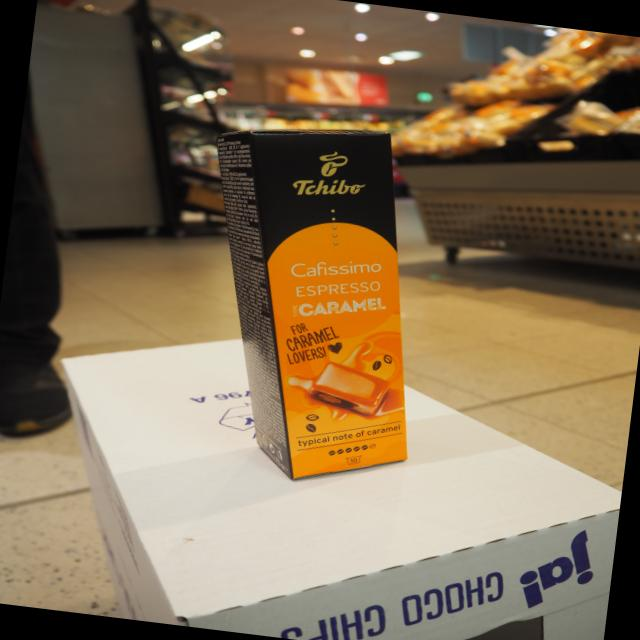Simo Es Caramel: (241, 129, 410, 487)
